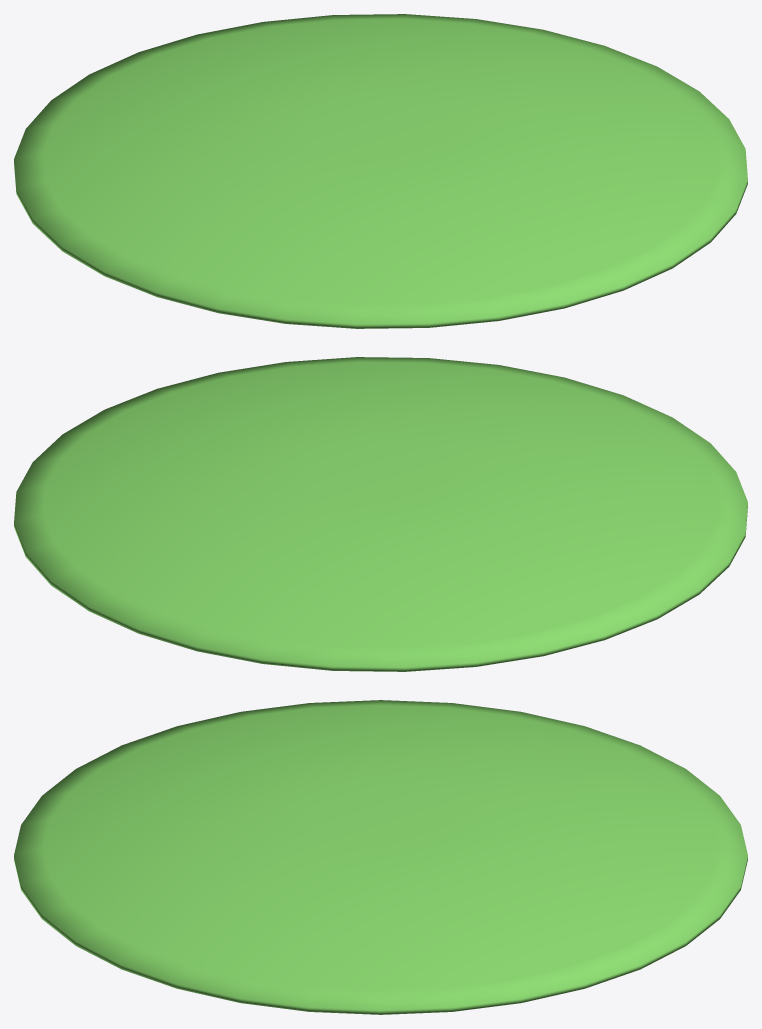
File: groundTest.glb
The picture shows the model from 3 angles, top to bottom: view 1: azimuth 30°, elevation 25°; view 2: azimuth 150°, elevation 25°; view 3: azimuth 270°, elevation 25°; orthographic projection.
Parts seen in each view (by area): view 1: ground; view 2: ground; view 3: ground.
Boxes of the visible parts, x1,y1,x2,y2 form: ground: [14, 14, 747, 328]; ground: [14, 357, 747, 671]; ground: [14, 700, 747, 1014].
Size of the model in its own units: 16.33 by 1.08 by 16.33.
